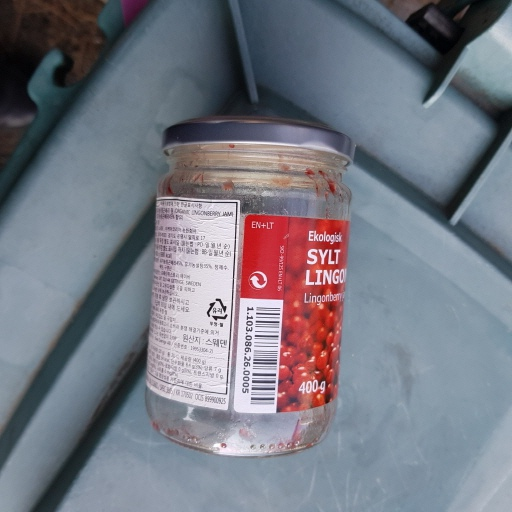Glass_5: (149, 113, 358, 465)
